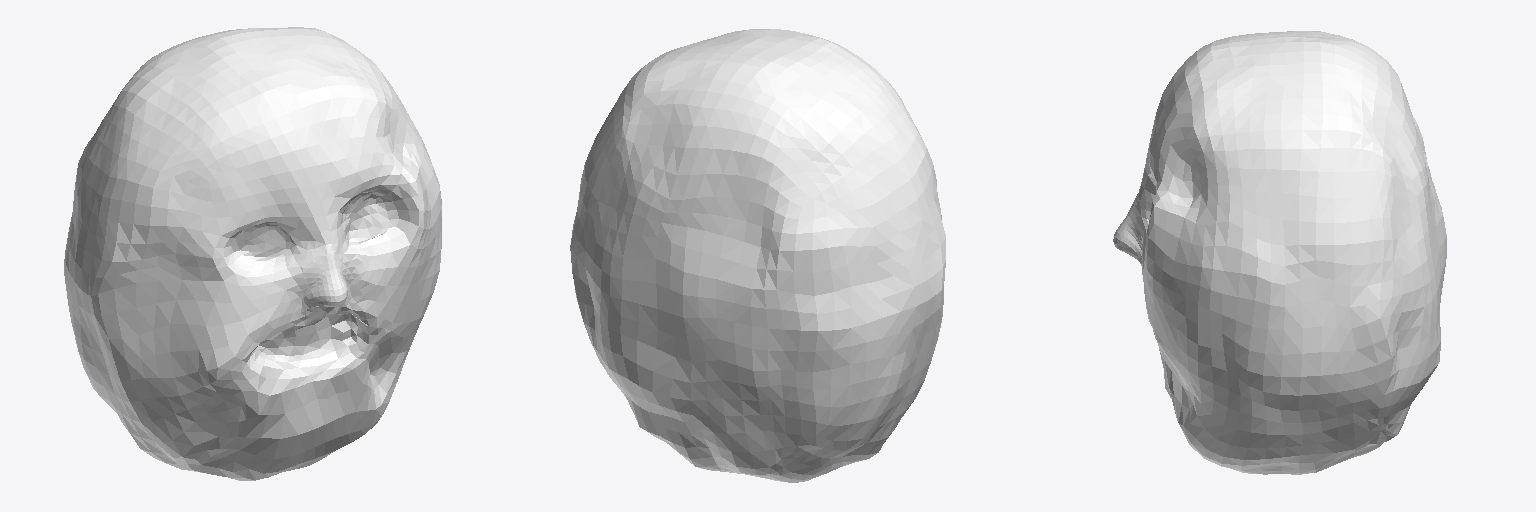
The model's file is baltas.obj.
3 views of the same model, side by side, from view 1: azimuth 30°, elevation 25°; view 2: azimuth 150°, elevation 25°; view 3: azimuth 270°, elevation 25° (orthographic).
Parts seen in each view (by area): view 1: baltas.obj; view 2: baltas.obj; view 3: baltas.obj.
Part boxes in pixels (left/top/right/bottom): baltas.obj: left=64, top=27, right=441, bottom=480; baltas.obj: left=570, top=29, right=945, bottom=482; baltas.obj: left=1113, top=31, right=1446, bottom=474.
Bounding box in the file's own units: 94.17 × 110 × 80.25.